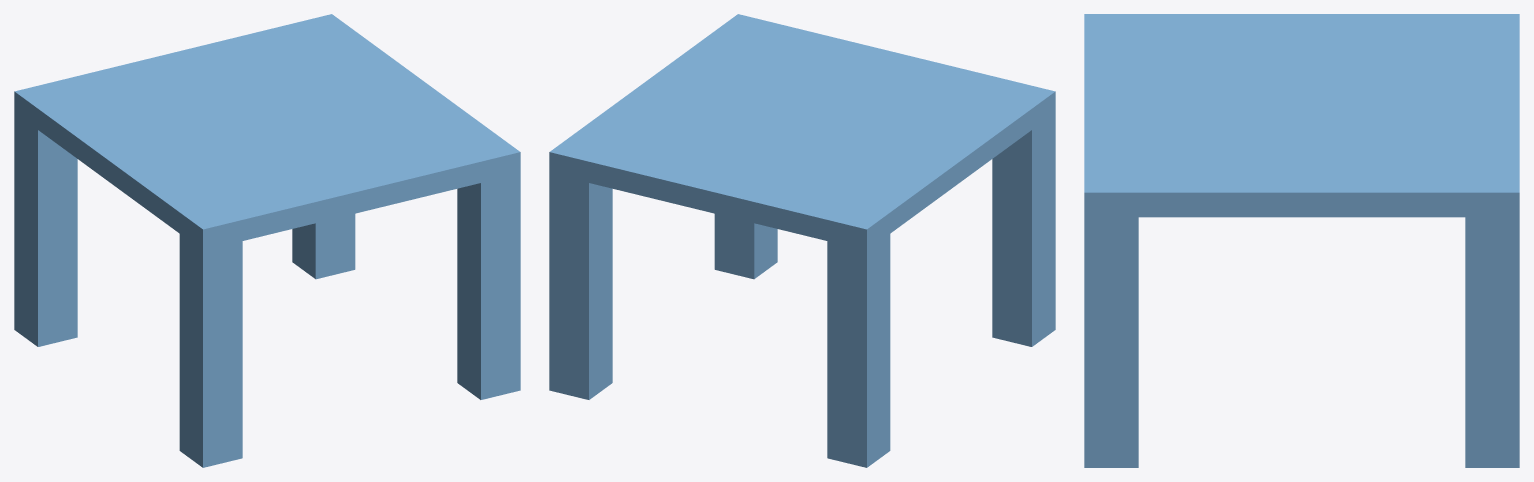
The picture shows the model from 3 angles, left to right: view 1: azimuth 30°, elevation 25°; view 2: azimuth 150°, elevation 25°; view 3: azimuth 270°, elevation 25°; orthographic projection. The views are drawn at different scales.
Visible parts, largest first — view 1: Cube; view 2: Cube; view 3: Cube.
Part boxes in pixels (x1,y1,x2,y2): Cube: (14,14,520,467); Cube: (549,14,1055,467); Cube: (1084,14,1519,467).
Size of the model in its own units: 735 by 528 by 757.
